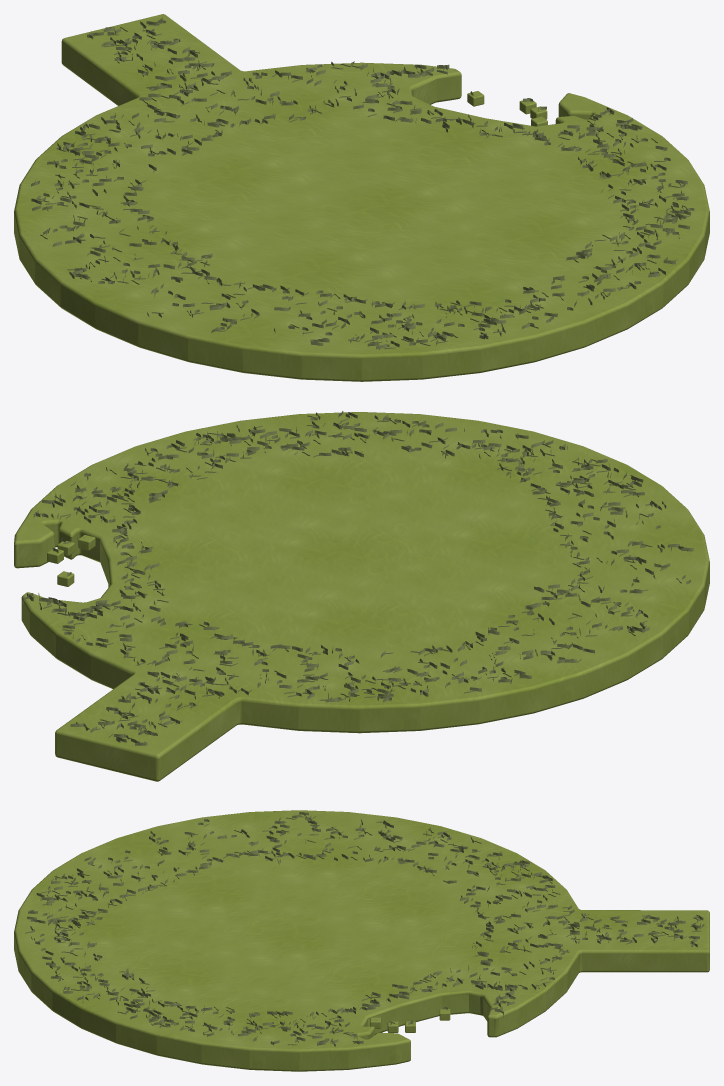
File: Map_04_01.fbx
3 renders of one model, top to bottom at view 1: azimuth 30°, elevation 25°; view 2: azimuth 150°, elevation 25°; view 3: azimuth 270°, elevation 25°, orthographic. The views are drawn at different scales.
Visible parts, largest first — view 1: Map_04_003, grass_01, Map_04.001; view 2: Map_04_003, grass_01, Map_04.001; view 3: Map_04_003, grass_01, Map_04.001.
Boxes of the visible parts, x1,y1,x2,y2 form: Map_04_003: (14, 14, 709, 381); grass_01: (31, 17, 694, 349); Map_04.001: (467, 91, 547, 126); Map_04_003: (14, 412, 709, 781); grass_01: (23, 411, 693, 745); Map_04.001: (47, 535, 95, 586); Map_04_003: (14, 810, 709, 1071); grass_01: (25, 812, 704, 1046); Map_04.001: (370, 1009, 450, 1032).
Bounding box in the file's own units: 3973 × 198 × 4846.
